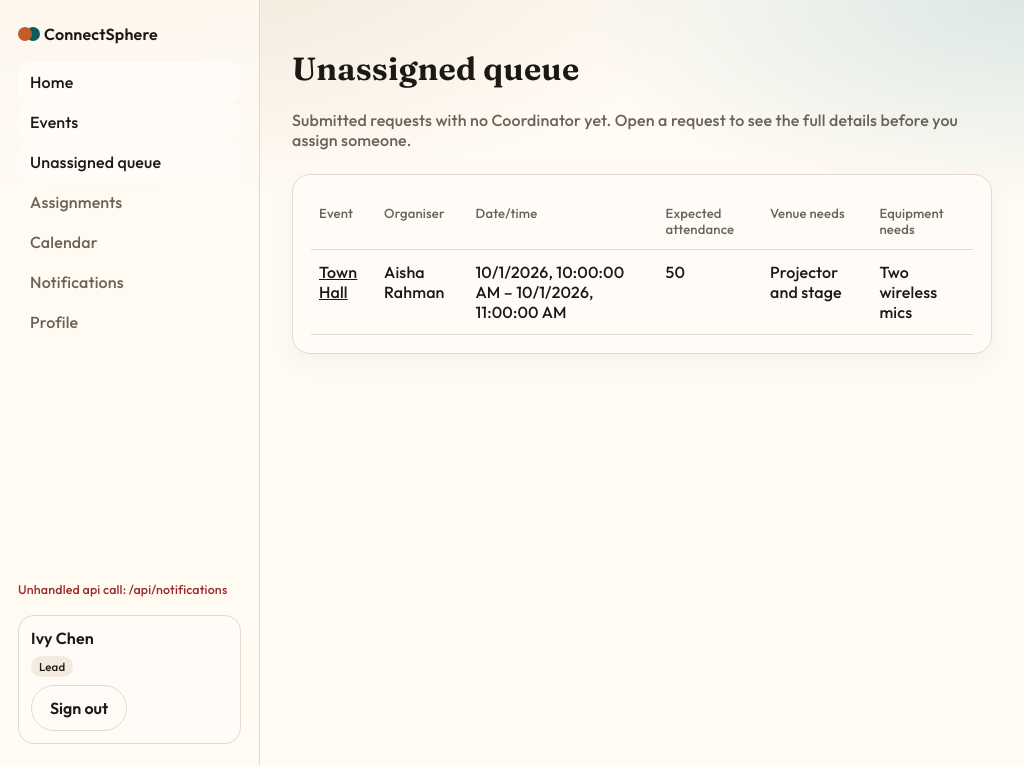
Scenario: SCRUM-65 Unassigned queue (Lead) › AC5: opening a queued request shows its full details
The image size is (1024, 765).
Click the link "Town Hall" at (338, 272), box [319,262,357,302]
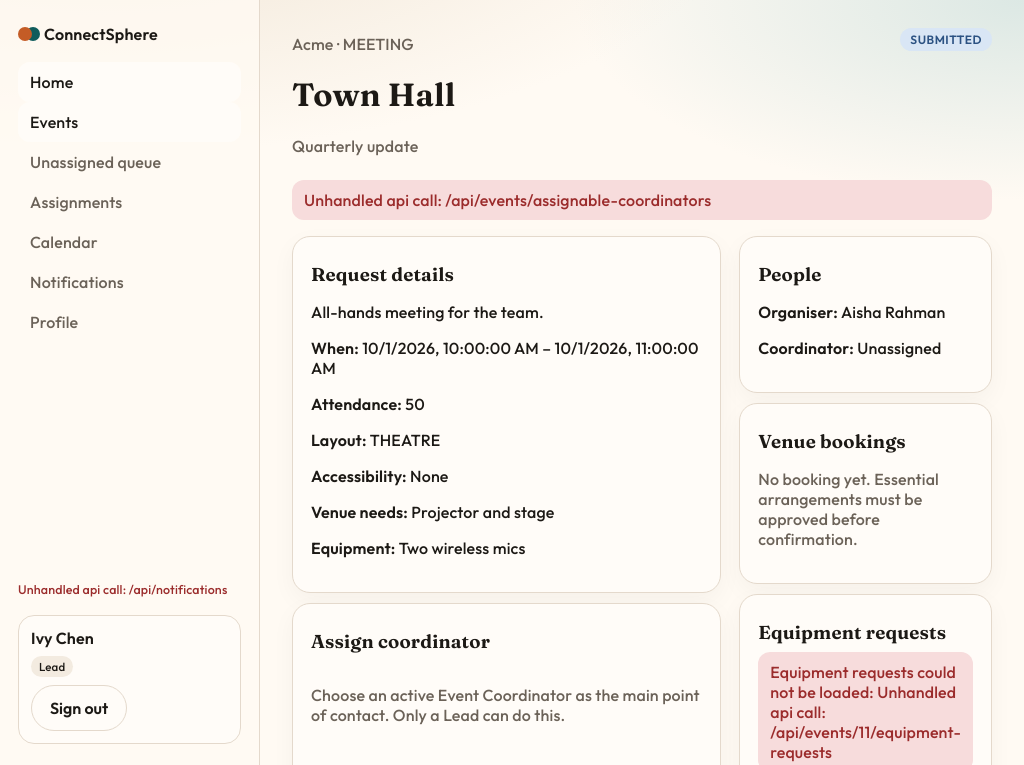
Result: the heading "Town Hall" is shown at [292,75,456,114]
Result: the text "All-hands meeting for the team." is shown at [311,302,544,322]
Result: the text "Attendance:" is shown at [311,394,402,414]
